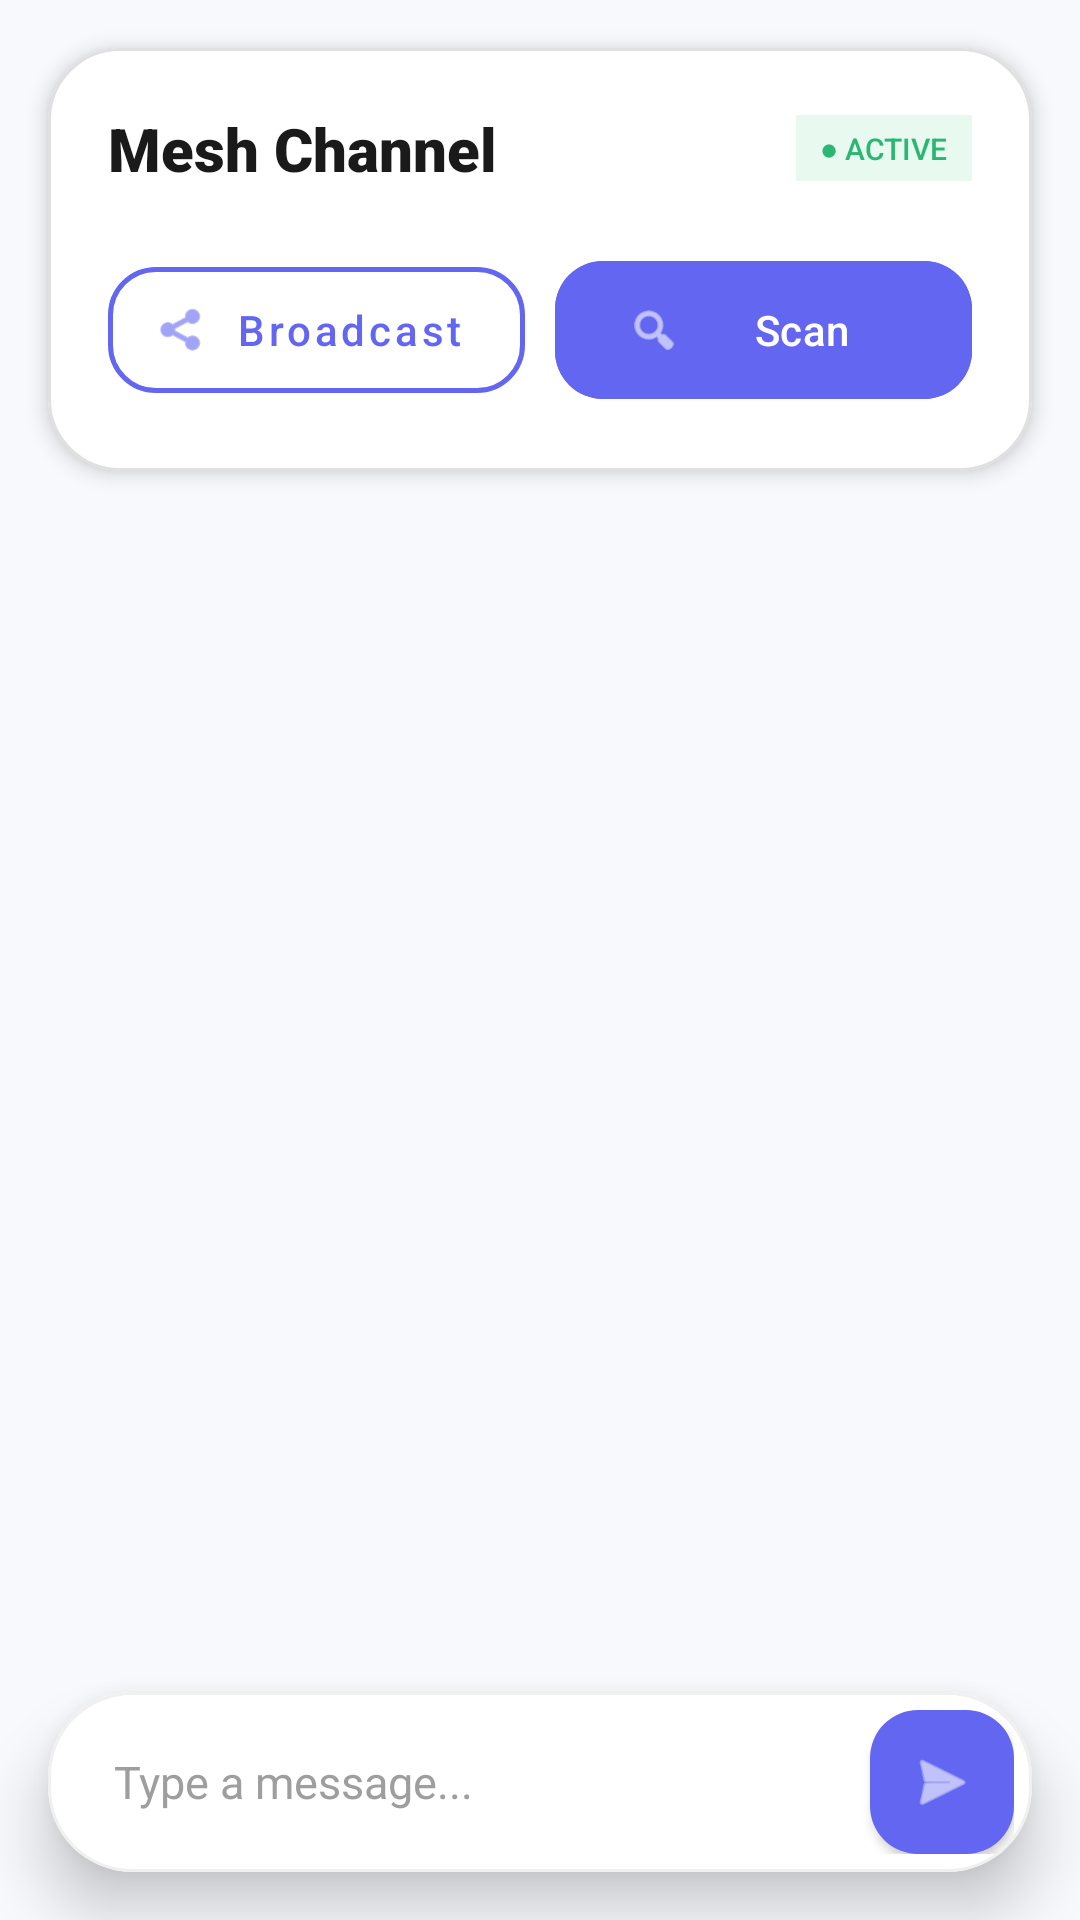

Screen size 1080px x 1920px. Icon name, then its center in pixels as (x,y):
send: (942,1782)
